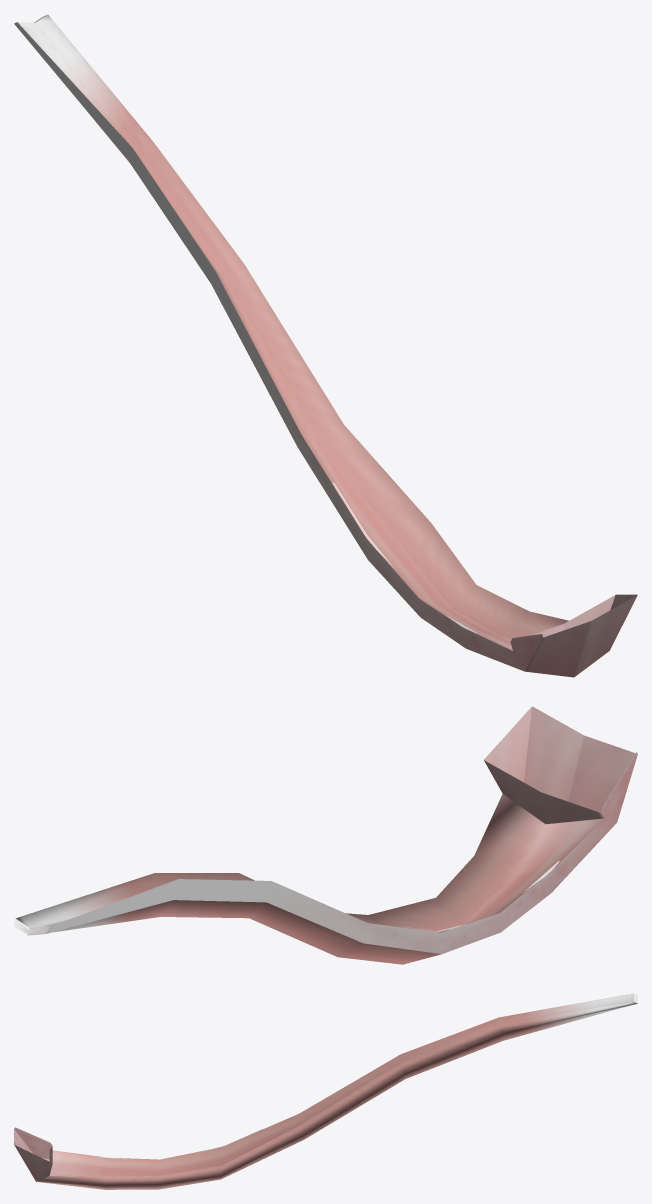
Rendered from Músculo Recto Inferior2.FBX.
The picture shows the model from 3 angles, top to bottom: view 1: azimuth 30°, elevation 25°; view 2: azimuth 150°, elevation 25°; view 3: azimuth 270°, elevation 25°; orthographic projection. The views are drawn at different scales.
Parts seen in each view (by area): view 1: Sclera Left; view 2: Sclera Left; view 3: Sclera Left.
Boxes of the visible parts, x1,y1,x2,y2 form: Sclera Left: (14,14,637,677); Sclera Left: (14,706,637,964); Sclera Left: (14,993,637,1189).
Size of the model in its own units: 0.1395 by 0.4033 by 1.22.
Materials: 1 (1 with a texture image).
